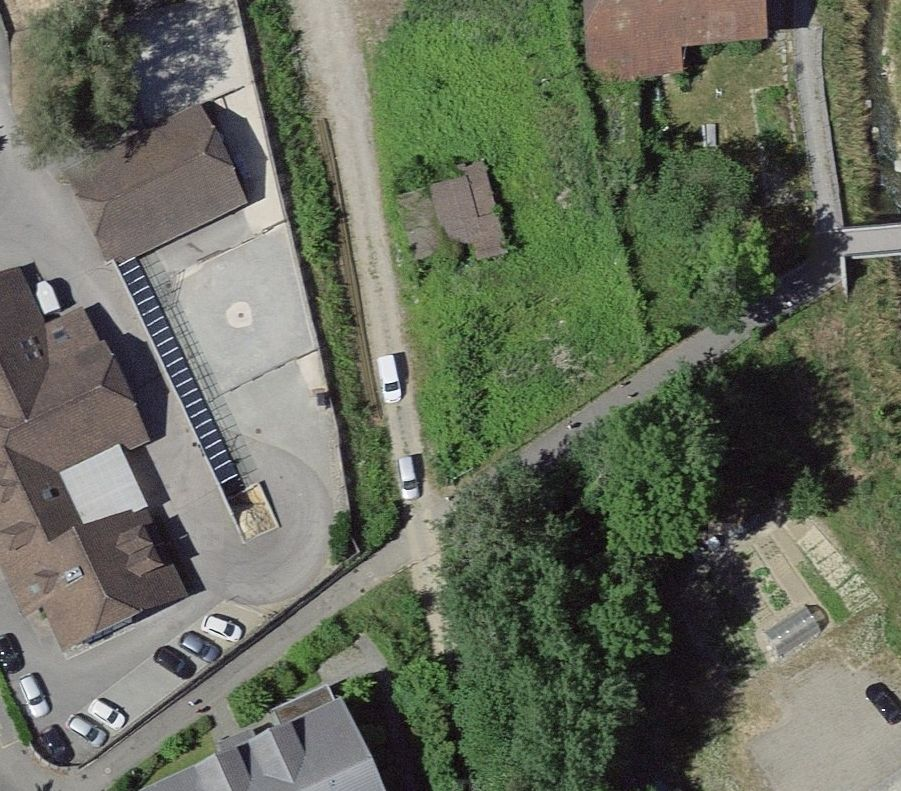solar: (118, 255, 240, 485)
